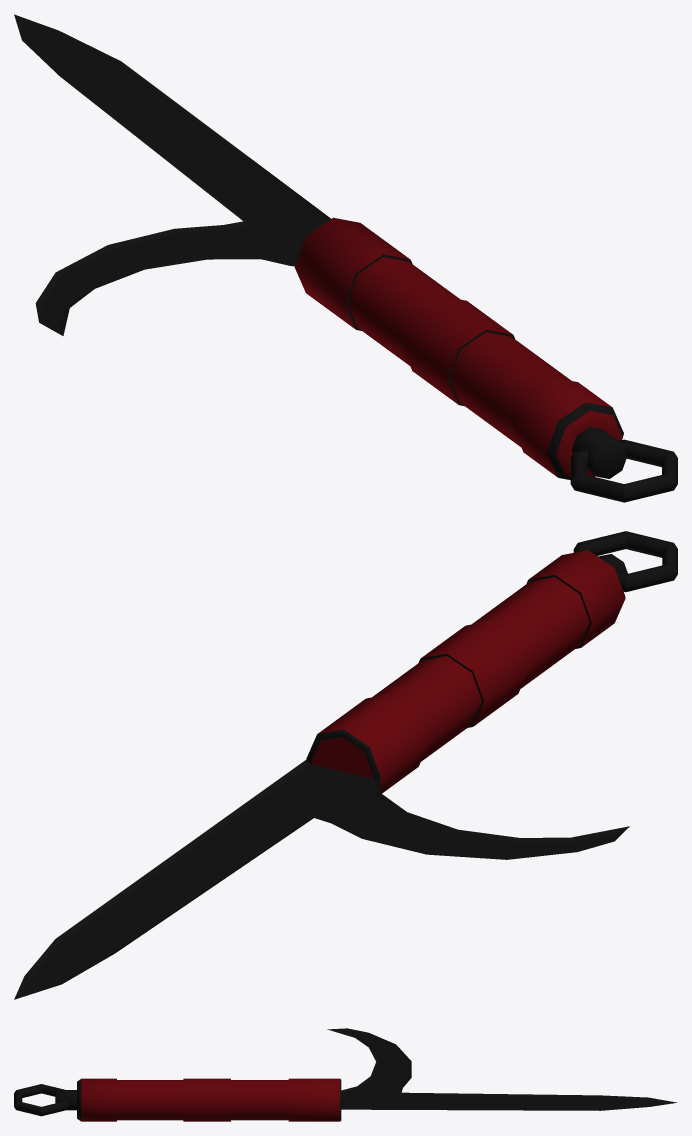
File: shoge_basic.glb
3 views of the same model, one above another, from view 1: azimuth 30°, elevation 25°; view 2: azimuth 150°, elevation 25°; view 3: azimuth 270°, elevation 25° (orthographic). The views are drawn at different scales.
Parts seen in each view (by area): view 1: 0.110, 1.067; view 2: 0.110, 1.067; view 3: 1.067, 0.110.
Boxes of the visible parts, x1,y1,x2,y2 form: 0.110: (14,14,677,502); 1.067: (294,217,622,477); 0.110: (14,531,677,999); 1.067: (311,550,625,793); 1.067: (81,1078,339,1121); 0.110: (14,1028,676,1121).
Bounding box in the file's own units: 0.1318 × 0.0298 × 0.4339.
